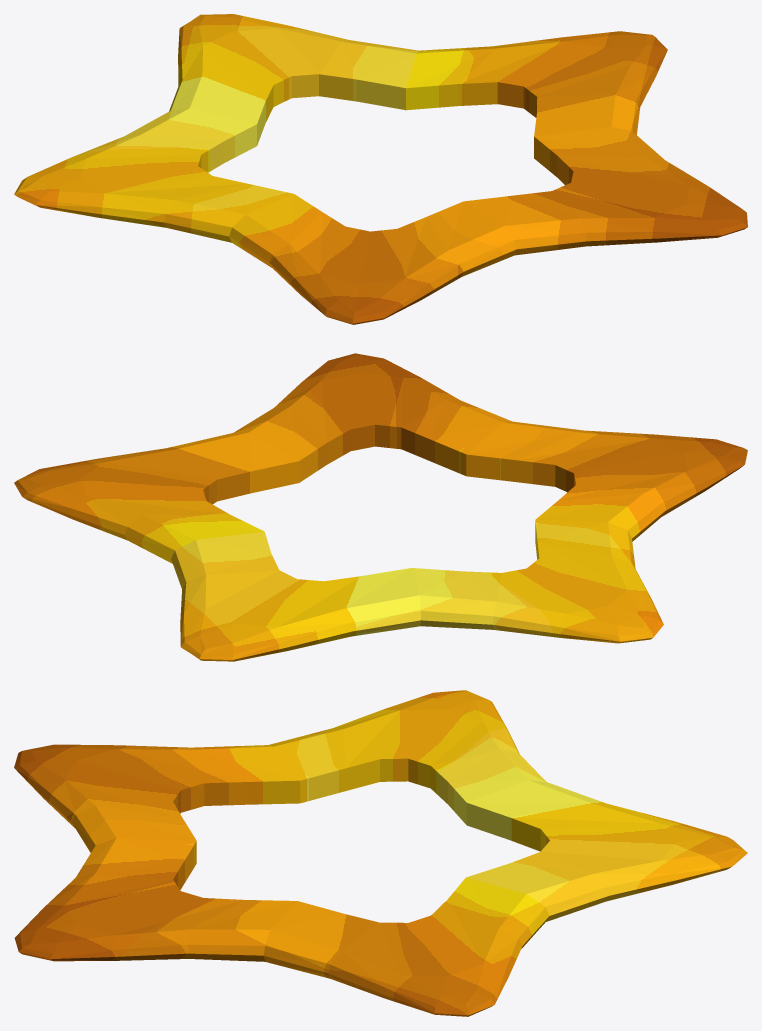
File: SpinDriver.dae
The picture shows the model from 3 angles, top to bottom: view 1: azimuth 30°, elevation 25°; view 2: azimuth 150°, elevation 25°; view 3: azimuth 270°, elevation 25°; orthographic projection. The views are drawn at different scales.
Visible parts, largest first — view 1: m0; view 2: m0; view 3: m0.
Boxes of the visible parts, <box> form: m0: <box>14,14,747,324</box>; m0: <box>14,353,747,661</box>; m0: <box>14,690,747,1016</box>.
Bounding box in the file's own units: 305 × 13.09 × 292.
Materials: 1 (1 with a texture image).
